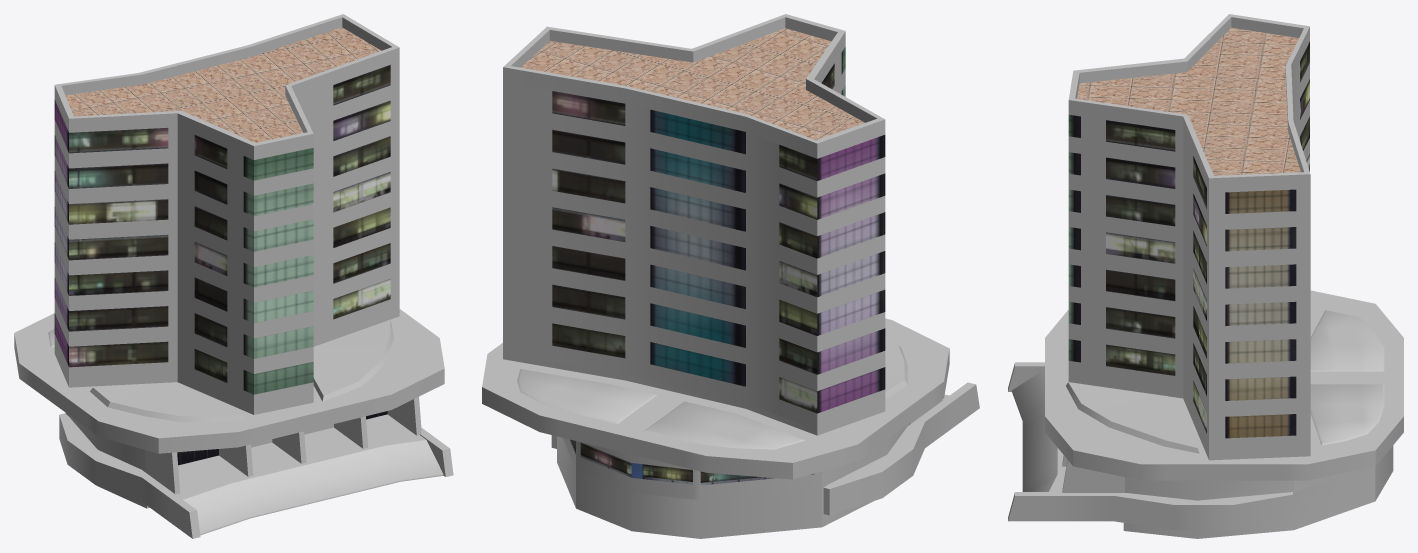
The model's file is hirise_22a.fbx.
The picture shows the model from 3 angles, left to right: view 1: azimuth 30°, elevation 25°; view 2: azimuth 150°, elevation 25°; view 3: azimuth 270°, elevation 25°; orthographic projection. The views are drawn at different scales.
Parts seen in each view (by area): view 1: hirise_22a; view 2: hirise_22a; view 3: hirise_22a.
Boxes of the visible parts, x1,y1,x2,y2 form: hirise_22a: (14,14,453,538); hirise_22a: (482,14,979,538); hirise_22a: (1008,14,1403,538).
Bounding box in the file's own units: 31.41 × 31.65 × 30.09.
